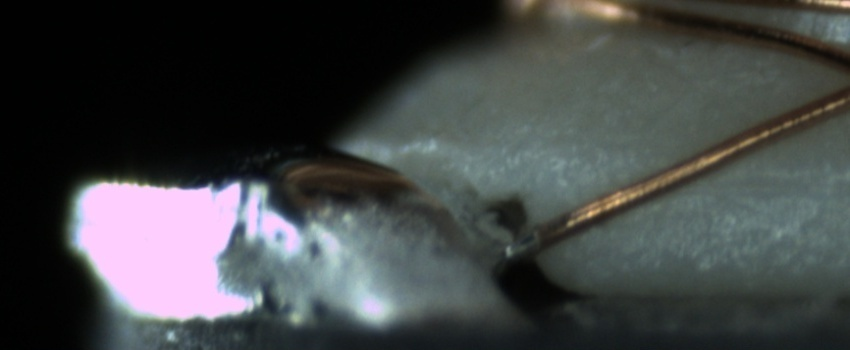CL: (833, 46, 850, 107)
DL: (635, 143, 849, 220)
TS: (501, 227, 539, 260)
